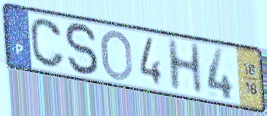4: (205, 45, 237, 103), (138, 36, 164, 88)
C: (28, 17, 67, 71)
H: (165, 36, 206, 95)
O: (100, 28, 135, 83)
S: (63, 21, 101, 79)
